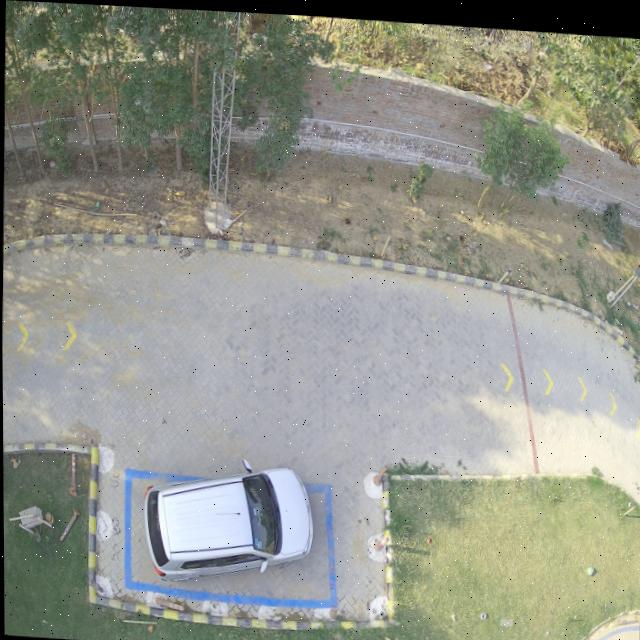car: (135, 466, 313, 577)
